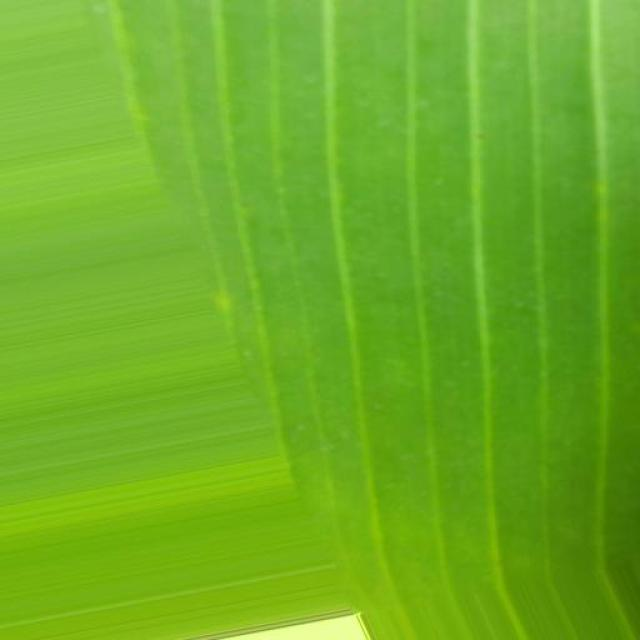Black_leaf_spot: (11, 0, 640, 599)
